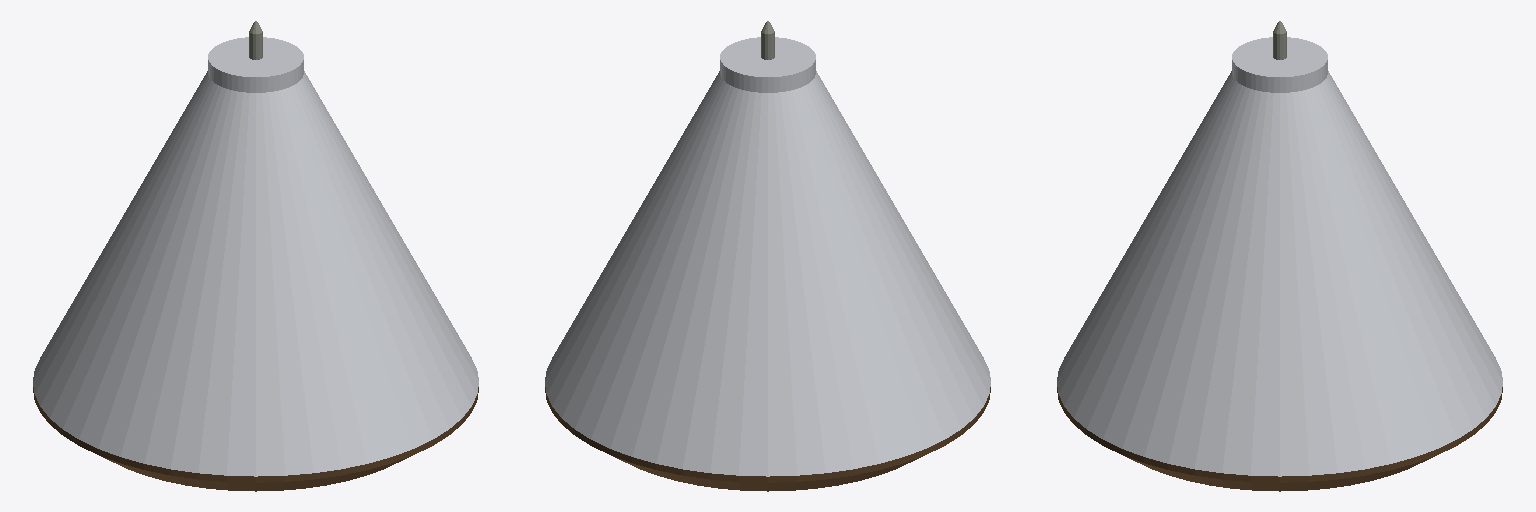
URDF robot description (cm):
<?xml version="1.0"?>
<!-- Command Module Columbia, docking probe on top, at scale -->
<robot name="cm">
  <link name="base">
    <visual>
      <origin xyz="0 0 0" rpy="0 0 0"/>
      <geometry><mesh filename="meshes/cm_shield.stl"/></geometry>
      <material name="base_0"><color rgba="0.420 0.320 0.220 1"/></material>
    </visual>
    <visual>
      <origin xyz="0 0 0" rpy="0 0 0"/>
      <geometry><mesh filename="meshes/cm_silver.stl"/></geometry>
      <material name="base_1"><color rgba="0.800 0.810 0.830 1"/></material>
    </visual>
    <visual>
      <origin xyz="0 0 0" rpy="0 0 0"/>
      <geometry><mesh filename="meshes/cm_probe.stl"/></geometry>
      <material name="base_2"><color rgba="0.580 0.580 0.550 1"/></material>
    </visual>
    <inertial><mass value="5600"/><origin xyz="0 0 0"/><inertia ixx="1" ixy="0" ixz="0" iyy="1" iyz="0" izz="1"/></inertial>
  </link>
</robot>

--- Render facts (derived) ---
Views: 3 orthographic renders of the robot side by side, from view 1: azimuth 30°, elevation 25°; view 2: azimuth 150°, elevation 25°; view 3: azimuth 270°, elevation 25°.
Model cm with 1 links and 0 joints (none), rooted at base, posed all joints at 0.
Visible links, largest first — view 1: base; view 2: base; view 3: base.
Boxes of the visible links, bbox=[...] form: base: bbox=[33, 21, 478, 491]; base: bbox=[545, 21, 990, 491]; base: bbox=[1057, 21, 1502, 491].
Size in the robot's own frame: 3.91 by 3.91 by 3.9 metres.
3 mesh visuals loaded from 3 distinct referenced files (3 binary STL).
